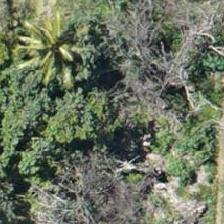coconut_tree: (1, 9, 91, 99)
